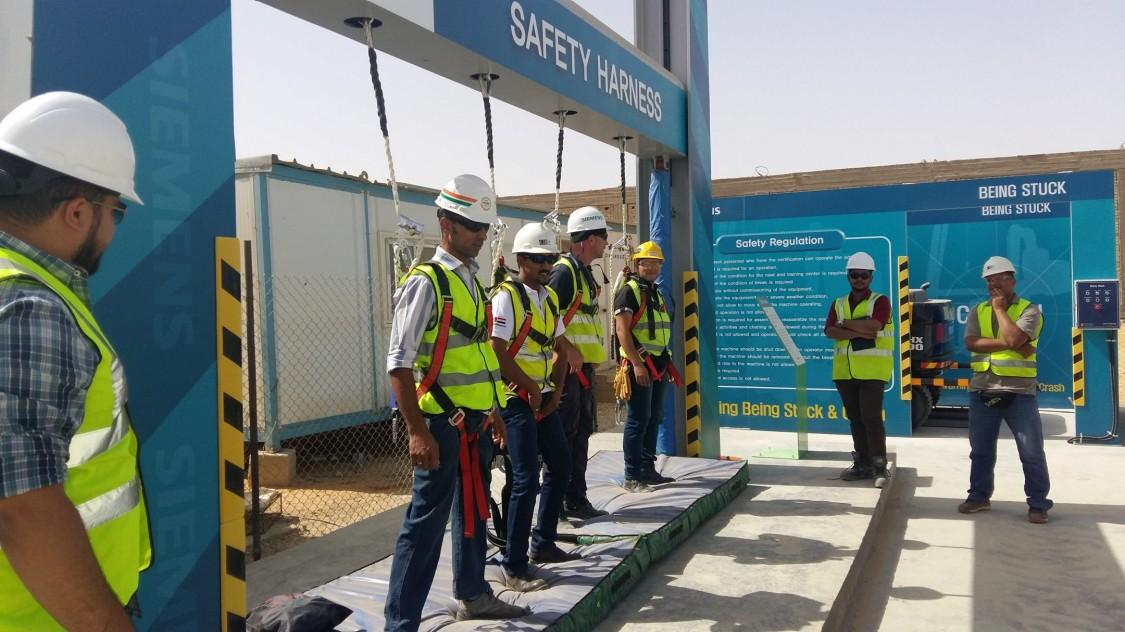helmet: (1, 92, 156, 202), (436, 176, 500, 227), (515, 223, 561, 262), (566, 208, 609, 236), (984, 257, 1016, 280), (634, 244, 666, 266), (846, 253, 877, 273)
